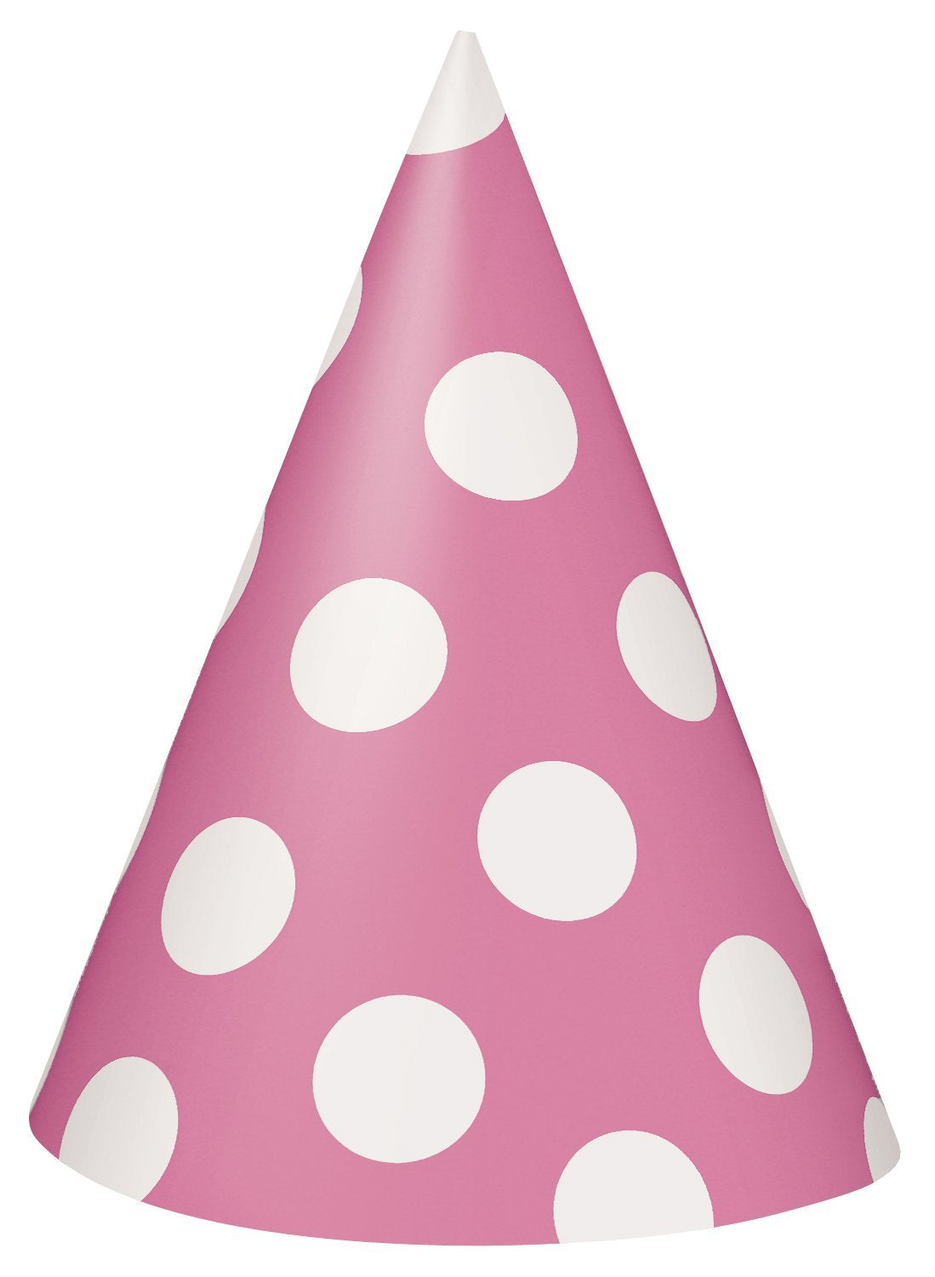cone: (28, 30, 902, 1246)
